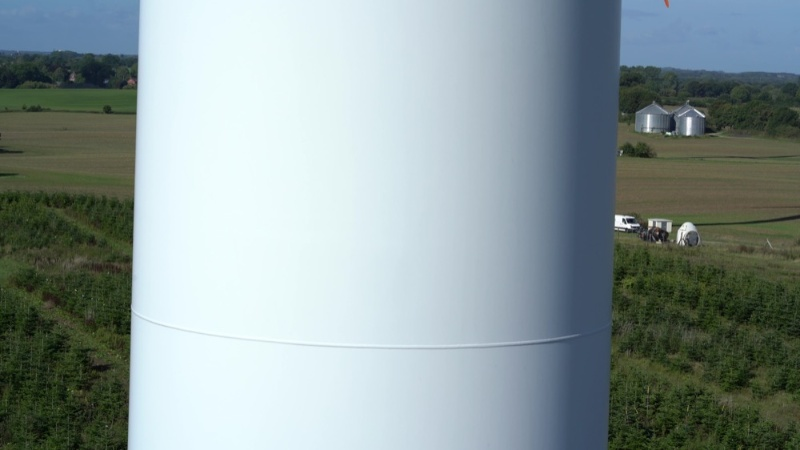weldseam: (131, 301, 611, 356)
